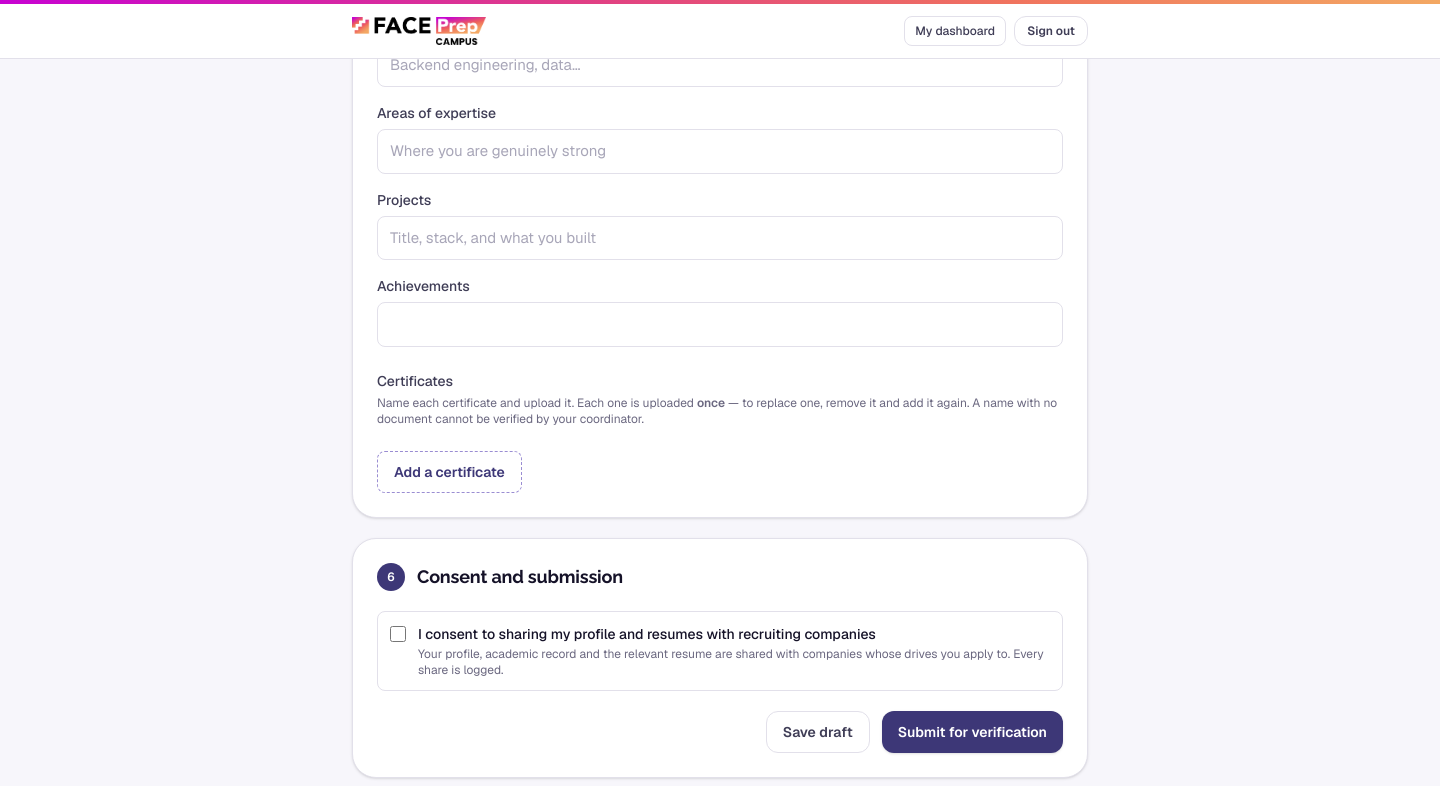
Test: SRF validation › blocks submission and reports problems rather than silently failing
The image size is (1440, 786).
(page scrolled)
Click the button "Submit for verification".
click(972, 732)  # box top-left (882, 710), bottom-right (1063, 752)
(page scrolled)
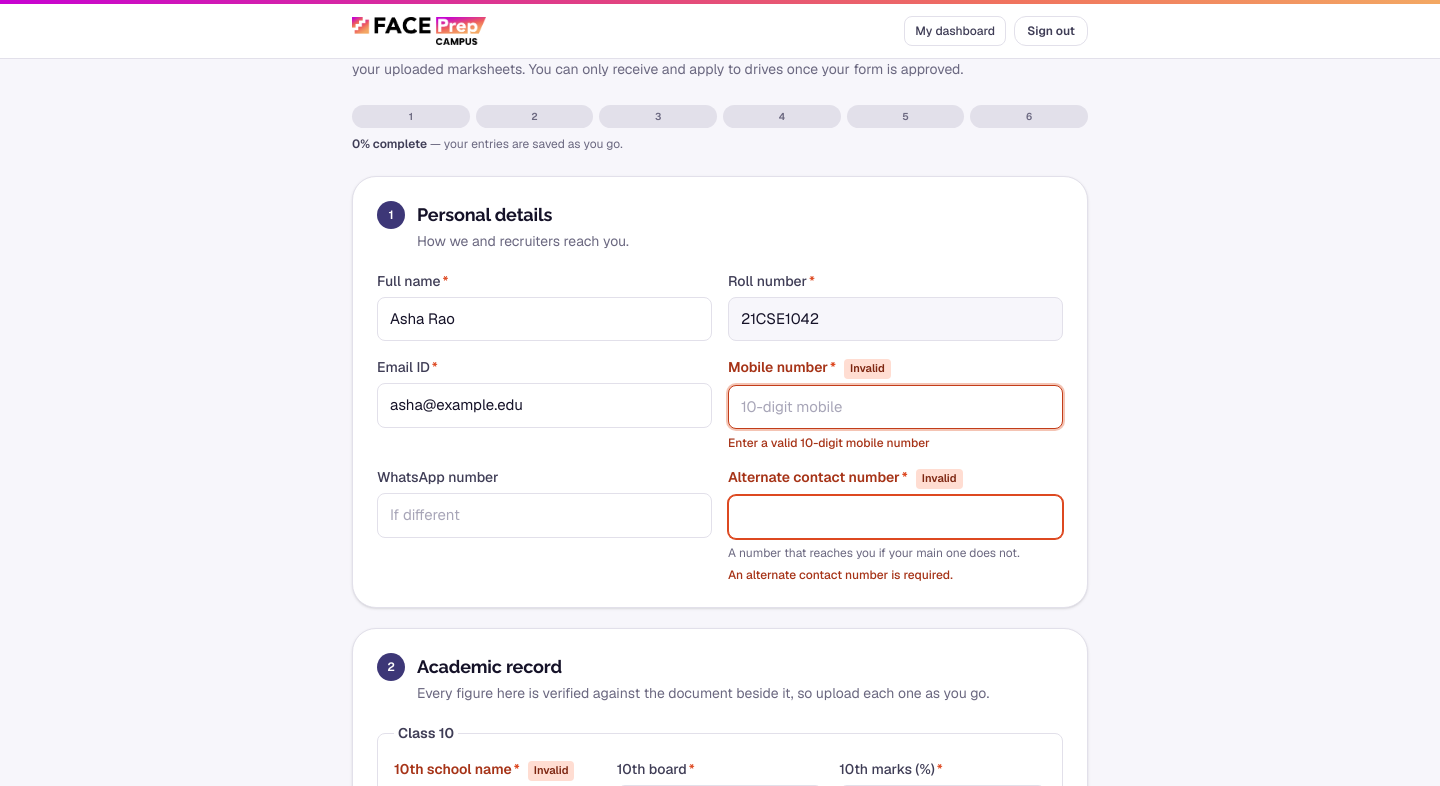
Expected: the message "Enter a valid 10-digit mobile number" is shown, top-left (728, 435), bottom-right (930, 451)
